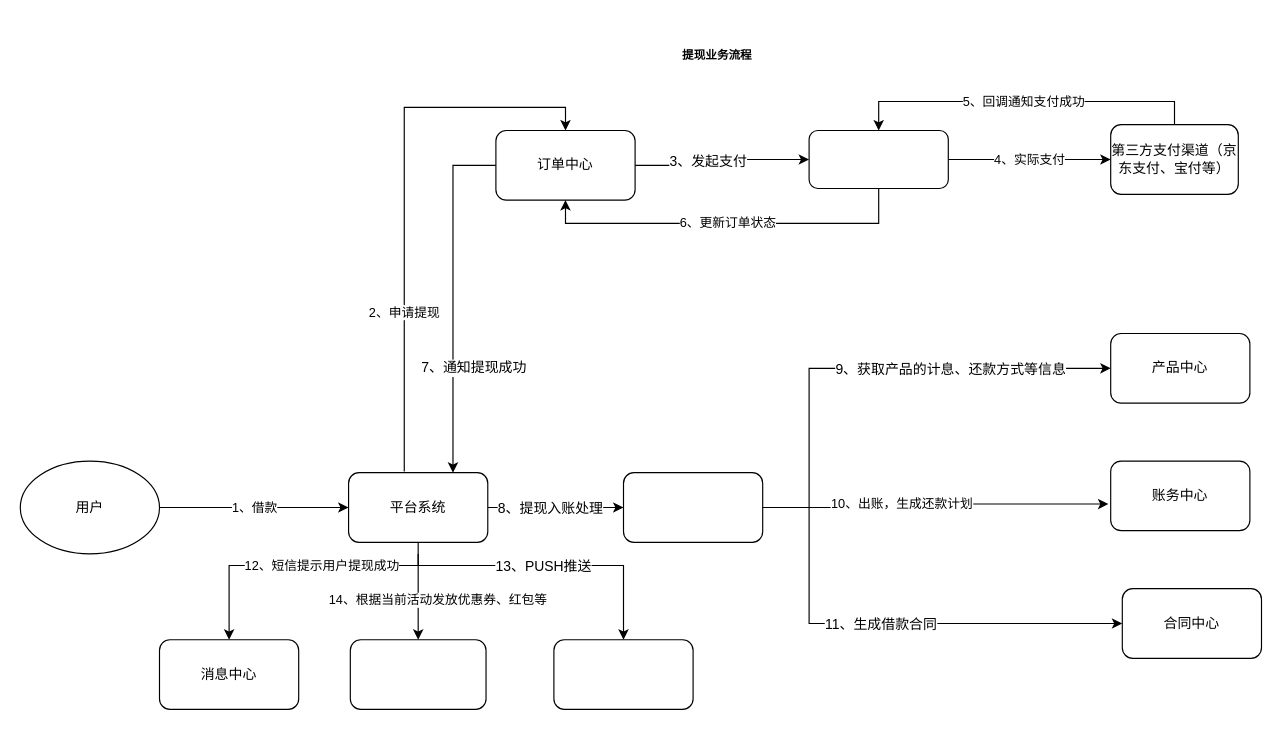
This 1282x730 diagram has some shape labels left out. The centre of each missing label's shape, as x and y in pixels:
支付中心: the point at 878,158
核算中心: the point at 692,507
活动中心: the point at 417,674
触达中心: the point at 623,674
